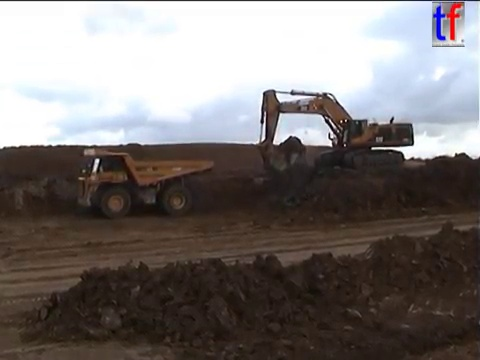excavator: (252, 87, 417, 176)
truck: (75, 146, 215, 219)
